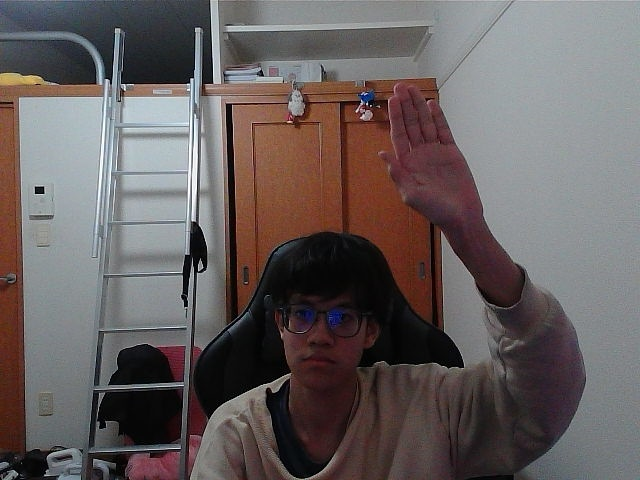open_palm: (386, 90, 460, 211)
